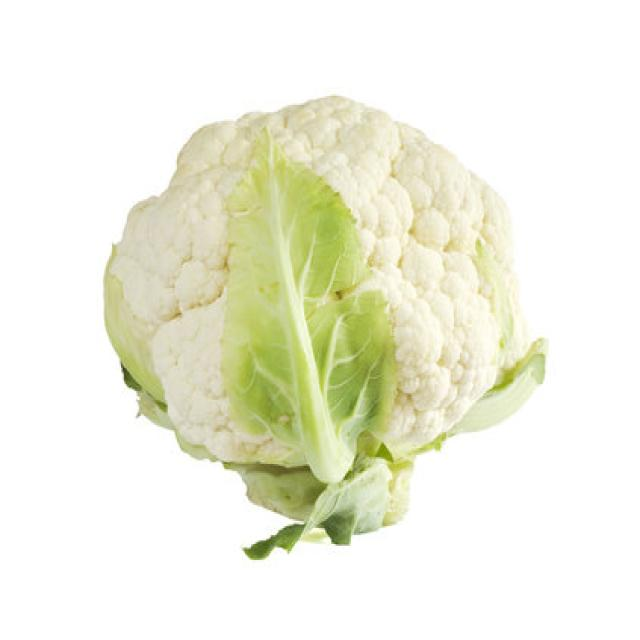Cauliflower: (101, 92, 546, 553)
